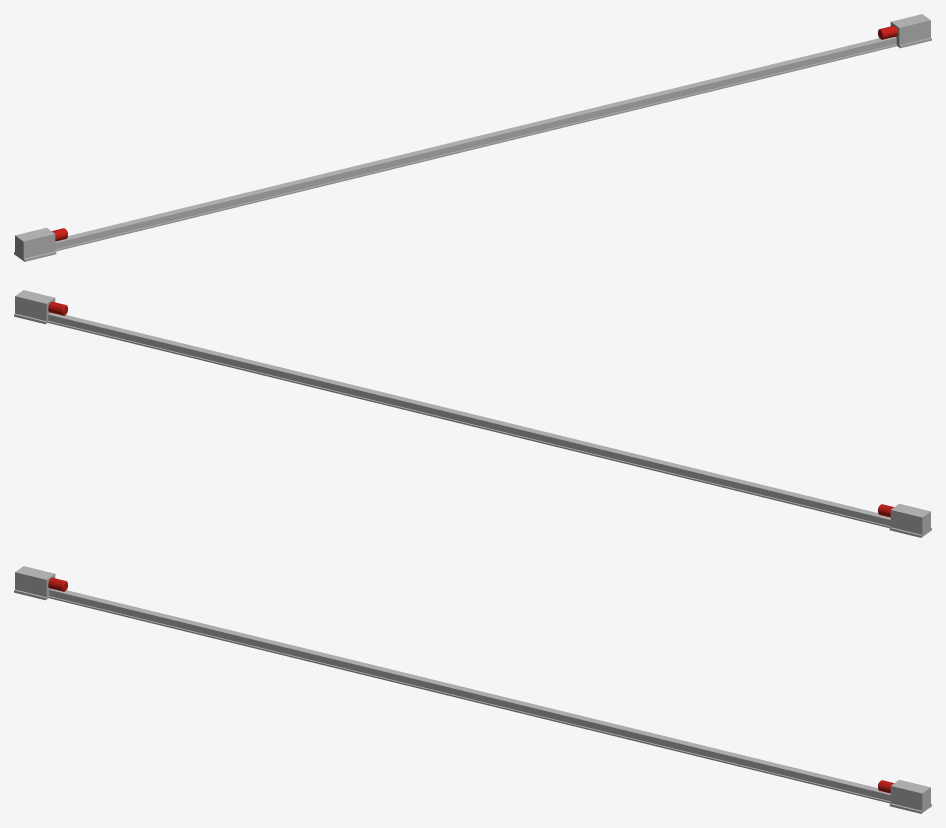
File: stacker-rail.glb
The picture shows the model from 3 angles, top to bottom: view 1: azimuth 30°, elevation 25°; view 2: azimuth 150°, elevation 25°; view 3: azimuth 330°, elevation 25°; orthographic projection.
Parts seen in each view (by area): view 1: Cylinder062_1; view 2: Cylinder062_1; view 3: Cylinder062_1.
Part boxes in pixels (bbox=[...]): Cylinder062_1: bbox=[14, 14, 931, 261]; Cylinder062_1: bbox=[14, 290, 931, 537]; Cylinder062_1: bbox=[14, 566, 931, 813].
Bounding box in the file's own units: 15.71 × 0.3241 × 0.3207.
